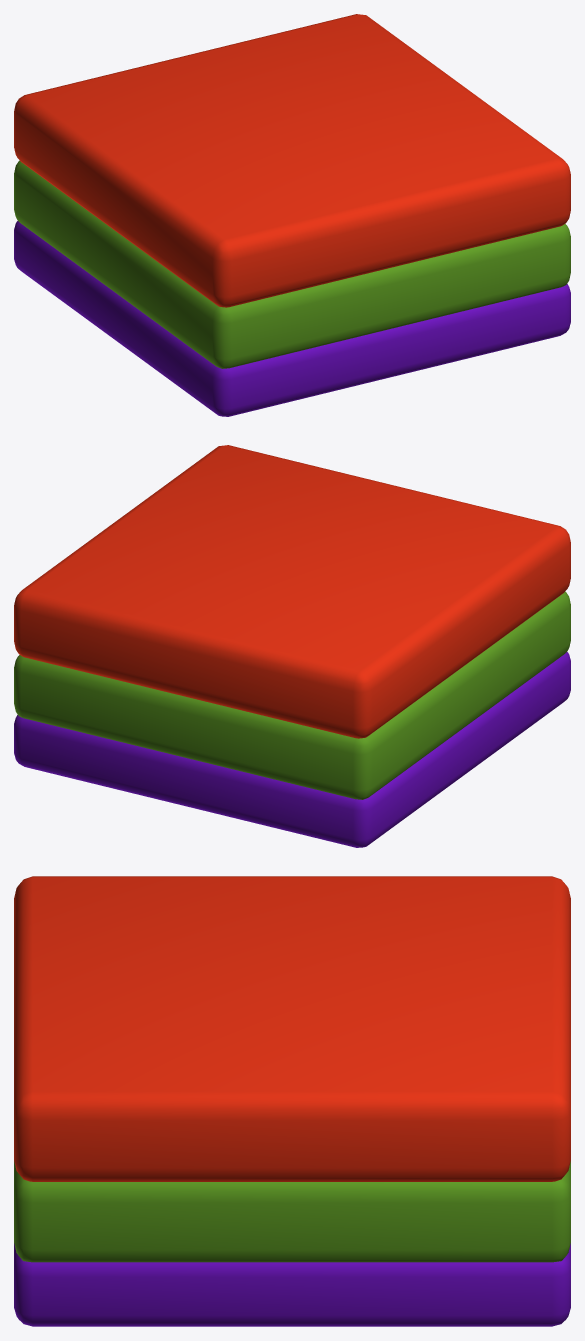
File: prop1.fbx
3 renders of one model, top to bottom at view 1: azimuth 30°, elevation 25°; view 2: azimuth 150°, elevation 25°; view 3: azimuth 270°, elevation 25°, orthographic. The views are drawn at different scales.
Parts seen in each view (by area): view 1: Cube.032; view 2: Cube.032; view 3: Cube.032.
Part boxes in pixels (<box>): Cube.032: <box>14,14,570,416</box>; Cube.032: <box>14,445,570,847</box>; Cube.032: <box>14,876,570,1326</box>.
Size of the model in its own units: 5.42 by 5.55 by 2.57.
